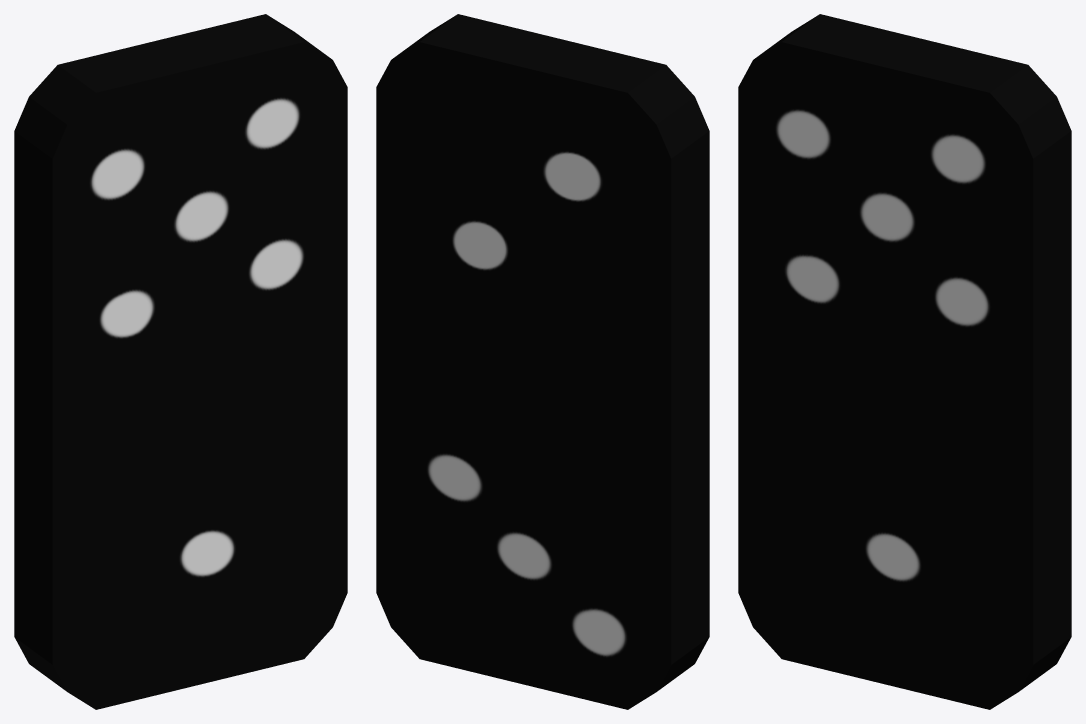
File: domino_vertical.gltf
3 renders of one model, left to right at view 1: azimuth 30°, elevation 25°; view 2: azimuth 150°, elevation 25°; view 3: azimuth 330°, elevation 25°, orthographic.
Parts seen in each view (by area): view 1: DOMINOV; view 2: DOMINOV; view 3: DOMINOV.
Part boxes in pixels (x1=…): DOMINOV: x1=14, y1=14, x2=347, y2=709; DOMINOV: x1=376, y1=14, x2=709, y2=709; DOMINOV: x1=738, y1=14, x2=1071, y2=709.
Bounding box in the file's own units: 9.35 × 18.71 × 2.11.
Materials: 1 (1 with a texture image).
